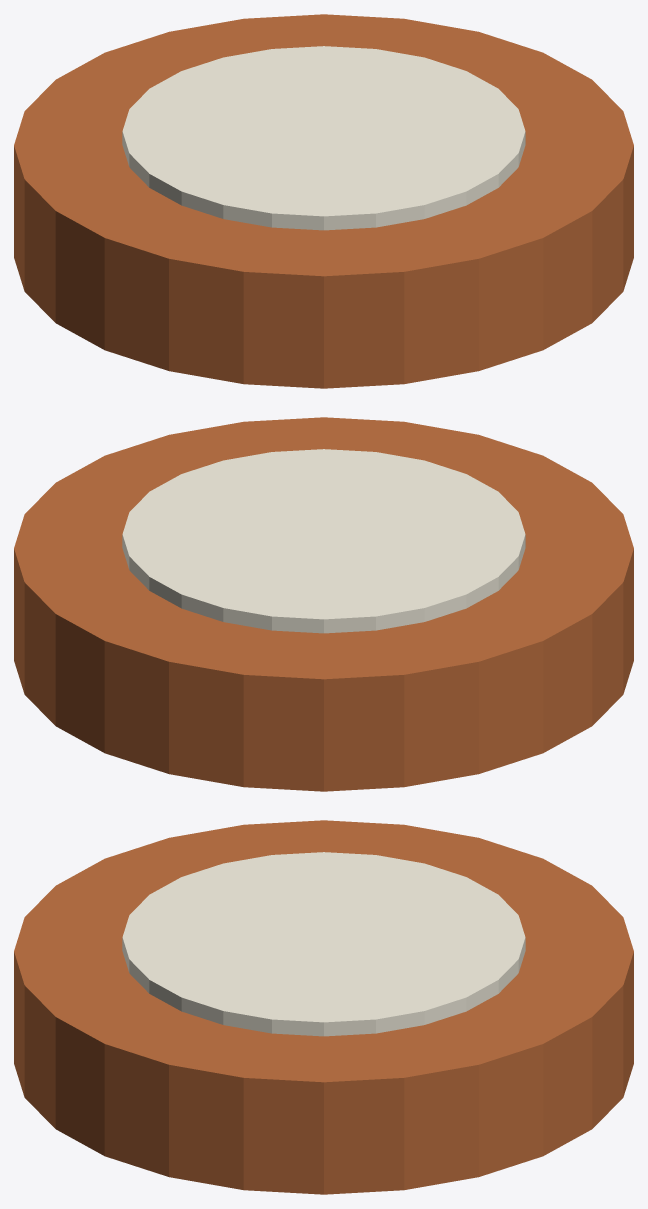
The model's file is Item_OR_Chip_29.glb.
3 renders of one model, top to bottom at view 1: azimuth 30°, elevation 25°; view 2: azimuth 150°, elevation 25°; view 3: azimuth 270°, elevation 25°, orthographic.
Visible parts, largest first — view 1: Item_OR_Chip_29; view 2: Item_OR_Chip_29; view 3: Item_OR_Chip_29.
Part boxes in pixels (left/top/right/bottom): Item_OR_Chip_29: left=14, top=14, right=633, bottom=388; Item_OR_Chip_29: left=14, top=417, right=633, bottom=791; Item_OR_Chip_29: left=14, top=820, right=633, bottom=1194.
Size of the model in its own units: 0.04 by 0.009 by 0.04.
